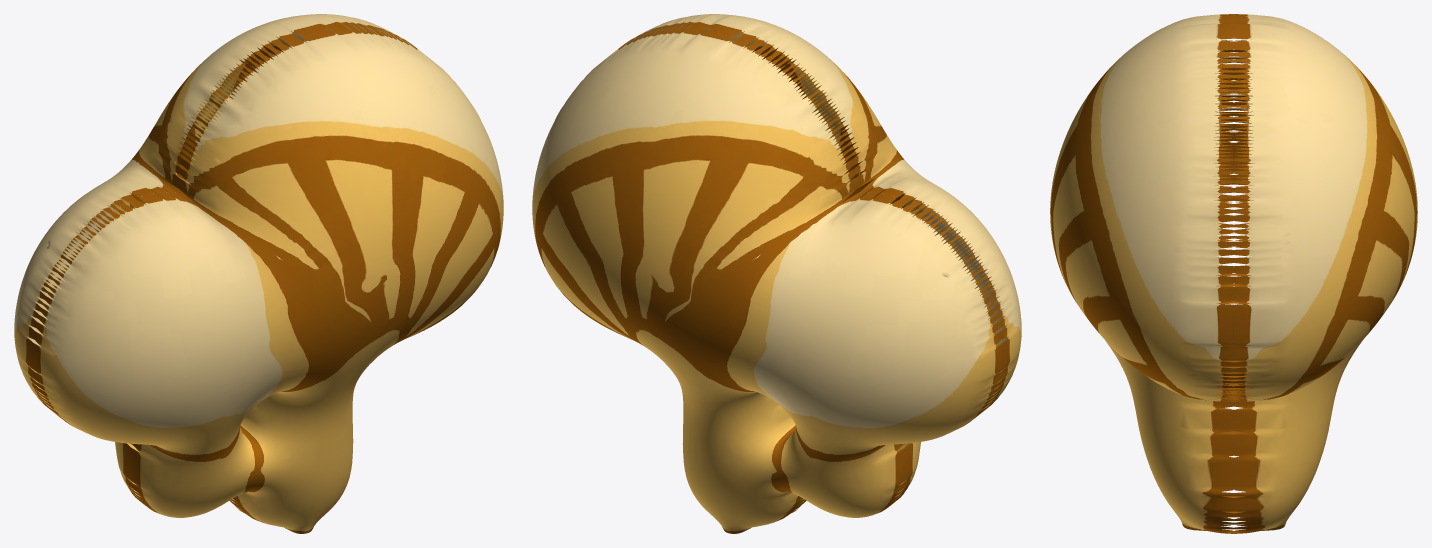
The model's file is mushrooms_orange.glb.
3 views of the same model, side by side, from view 1: azimuth 30°, elevation 25°; view 2: azimuth 150°, elevation 25°; view 3: azimuth 270°, elevation 25° (orthographic). The views are drawn at different scales.
Visible parts, largest first — view 1: mushrooms_orange; view 2: mushrooms_orange; view 3: mushrooms_orange.
Boxes of the visible parts, x1,y1,x2,y2 form: mushrooms_orange: [14, 14, 503, 533]; mushrooms_orange: [532, 14, 1021, 533]; mushrooms_orange: [1050, 14, 1417, 533].
Size of the model in its own units: 0.9888 by 1 by 0.6544.
1 material, 1 textured.
